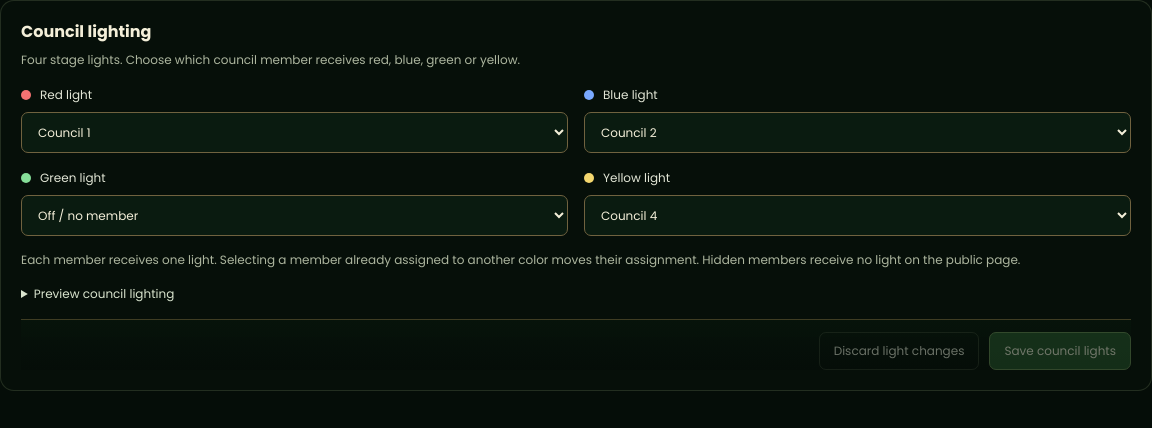
preserves failed selections for retry and respects approval requirements
Later steps or results of the test are not shown.
Select "Off / no member" in the dropdown with id "council-light-green" at [294, 215], box 21,195 -> 568,236
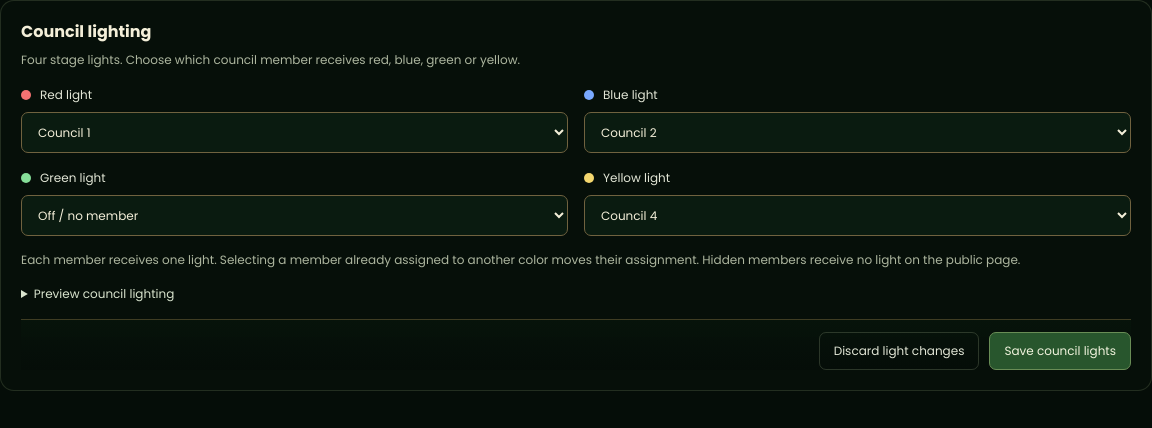
Click the button "Save council lights" at [1060, 351], box 989,332 -> 1131,370
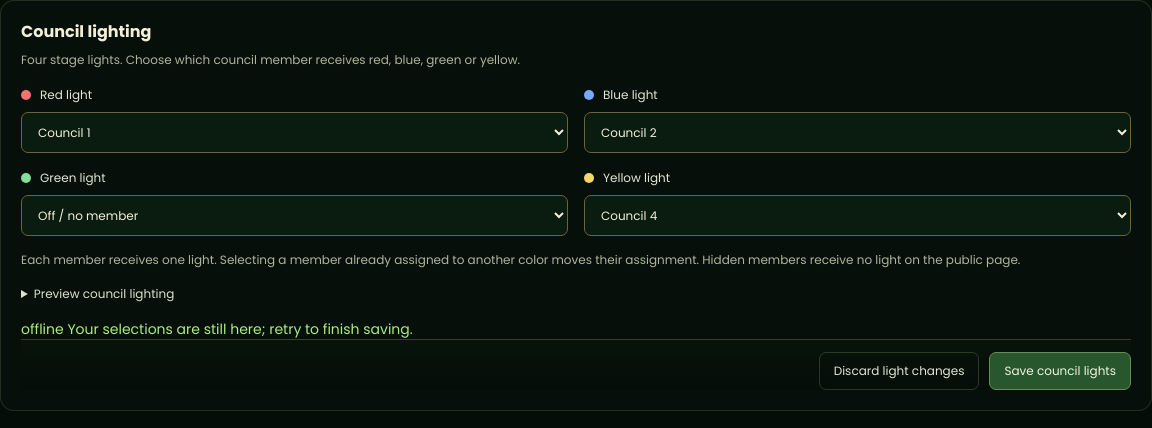
Check: the message "offline Your selections are still here; retry to finish saving." is shown, box 21,319 -> 413,339
